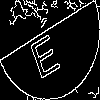E: (25, 25, 63, 80)
